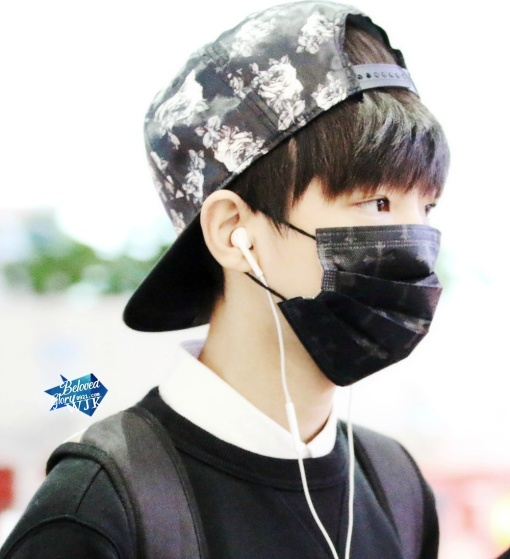face_mask: (266, 111, 441, 359)
